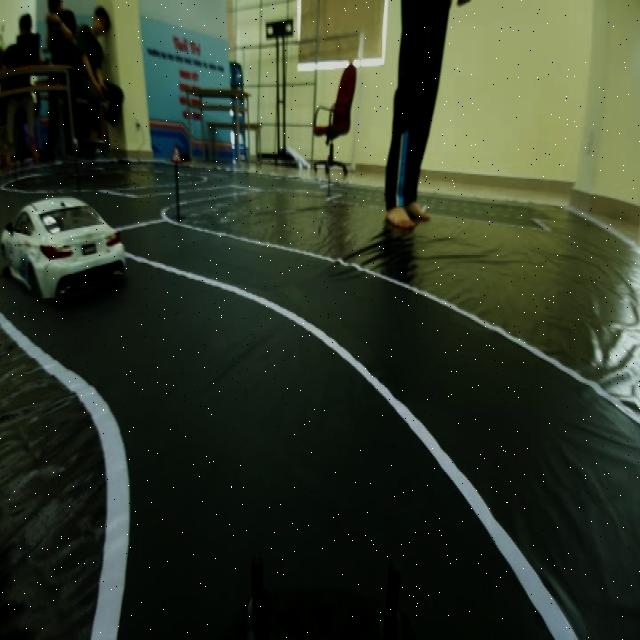car: (1, 178, 131, 316)
